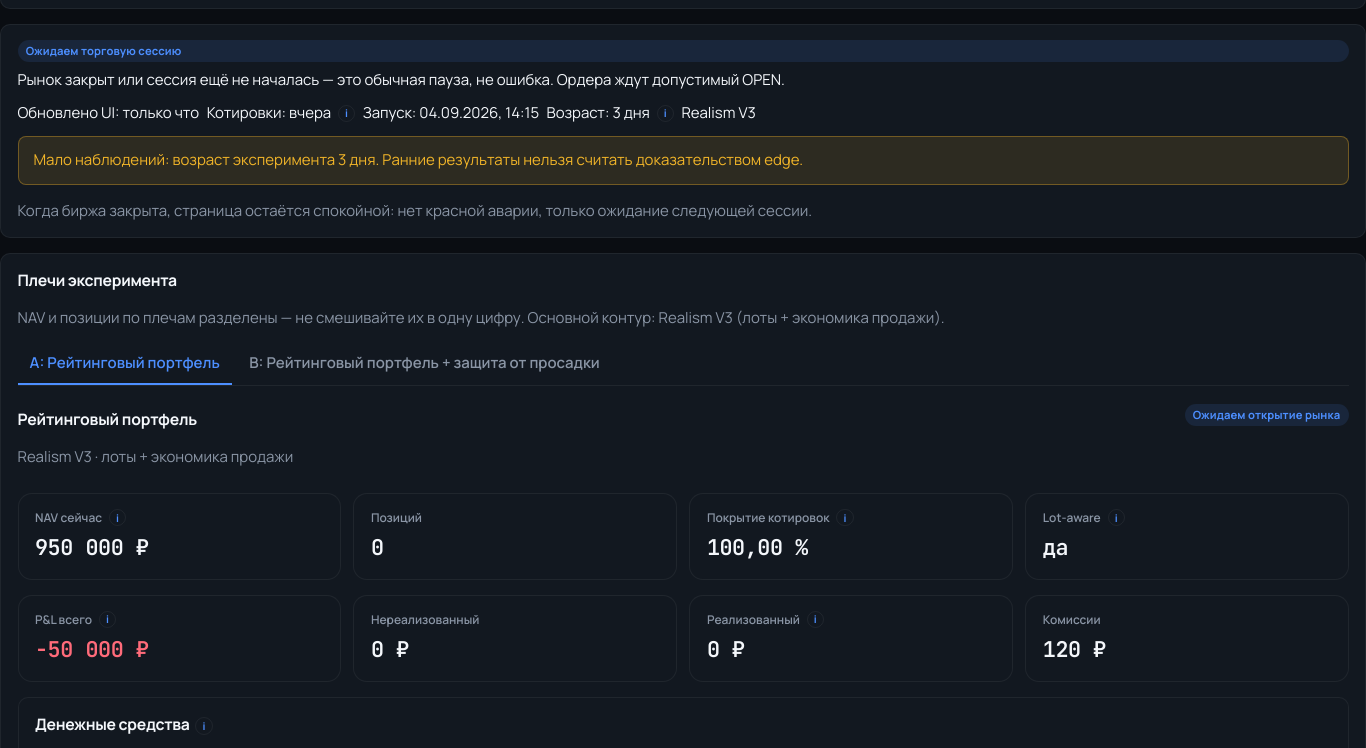
Test case: ShadowPage › loads Decision Journal for the active arm and switches portfolio safely
The image size is (1366, 748).
(page scrolled)
Click the tab with test id "shadow-arm-tab-6": click(424, 364) [237,344,612,384]
(page scrolled)
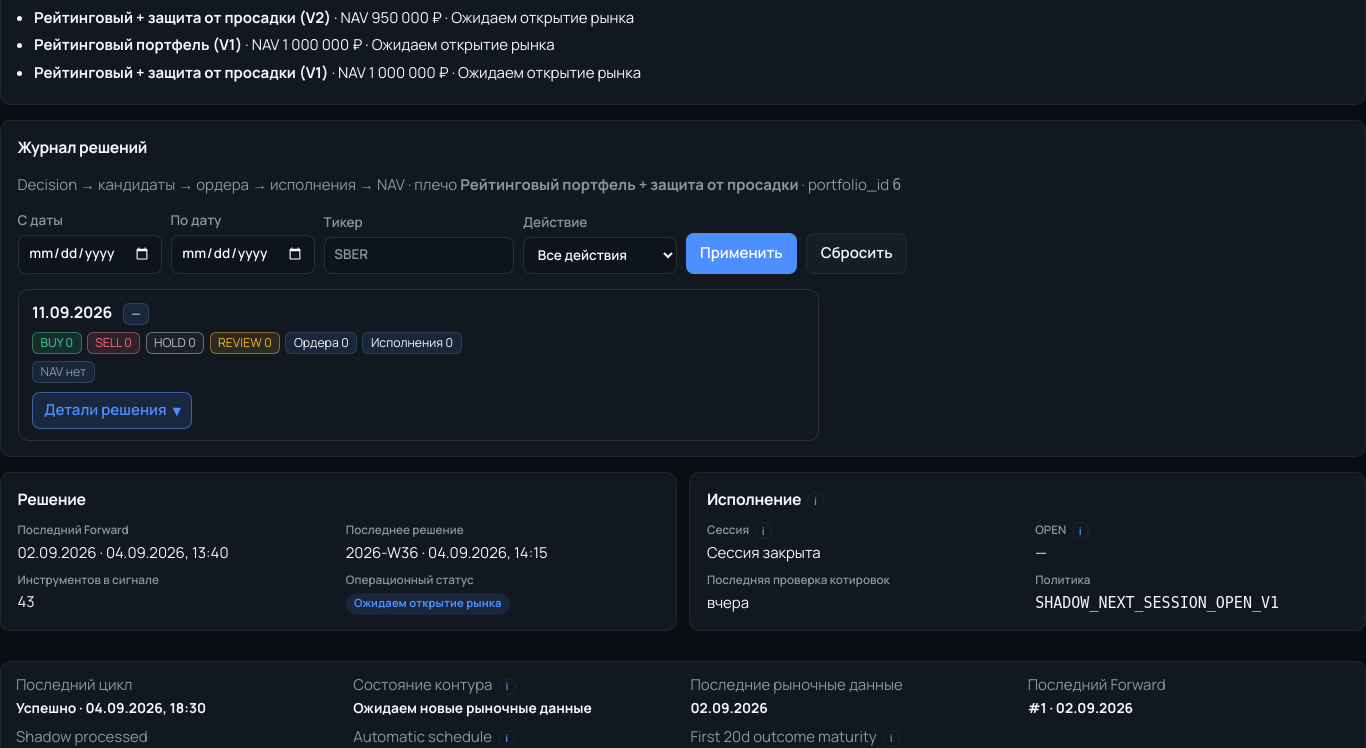
Expected: the text with test id "shadow-journal-portfolio-id" reads "6", [892,176,901,194]
Expected: the element with test id "shadow-journal-day-2026-09-11" is shown, [18,288,818,441]
